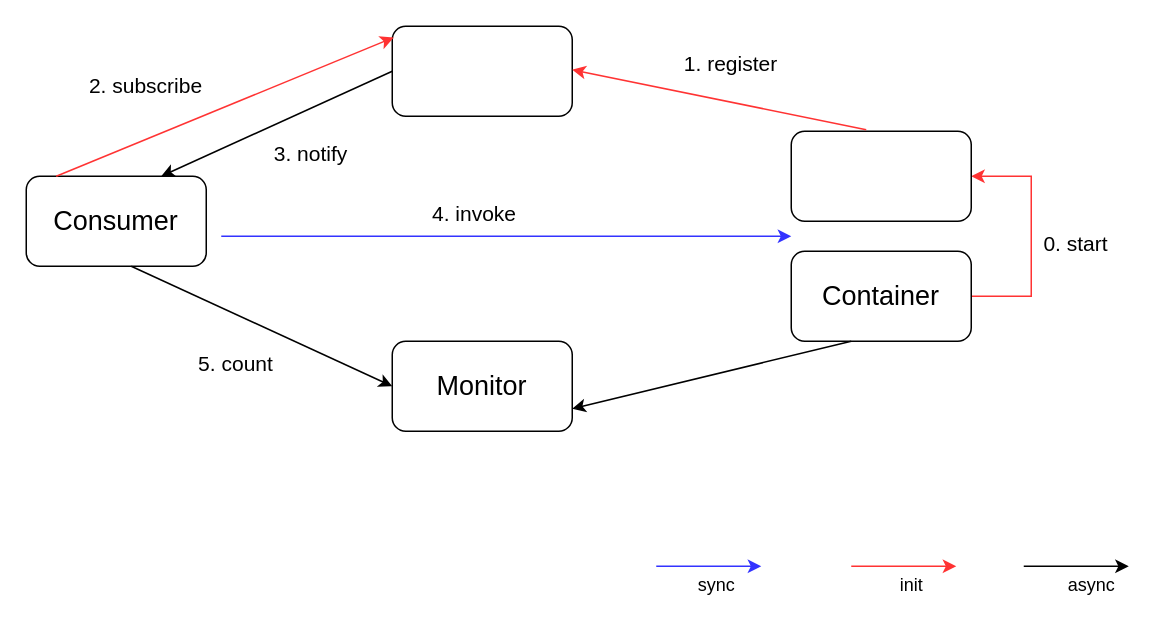
This 1167x635 diagram has some shape labels left out. Here are the shapes that lost their labels. From the top down, the centre of each, then its label:
At (x=481, y=70): "Registry".
At (x=880, y=175): "Provider".
